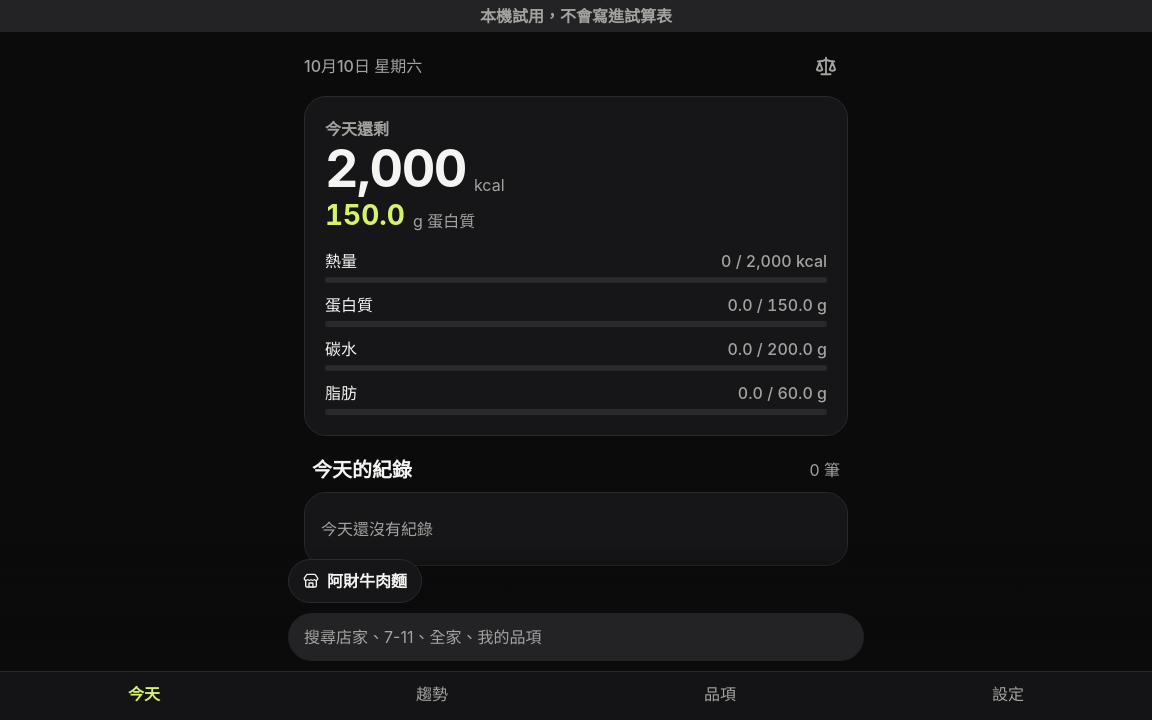
Scenario: 請 Kyujin 估算不打 API；離線時按鈕是需要網路
What coordinates should you click on to do the following:
click the button with aria-label "店家 阿財牛肉麵"
I would click on:
 (355, 581)
Its box is left=288, top=559, right=422, bottom=603.
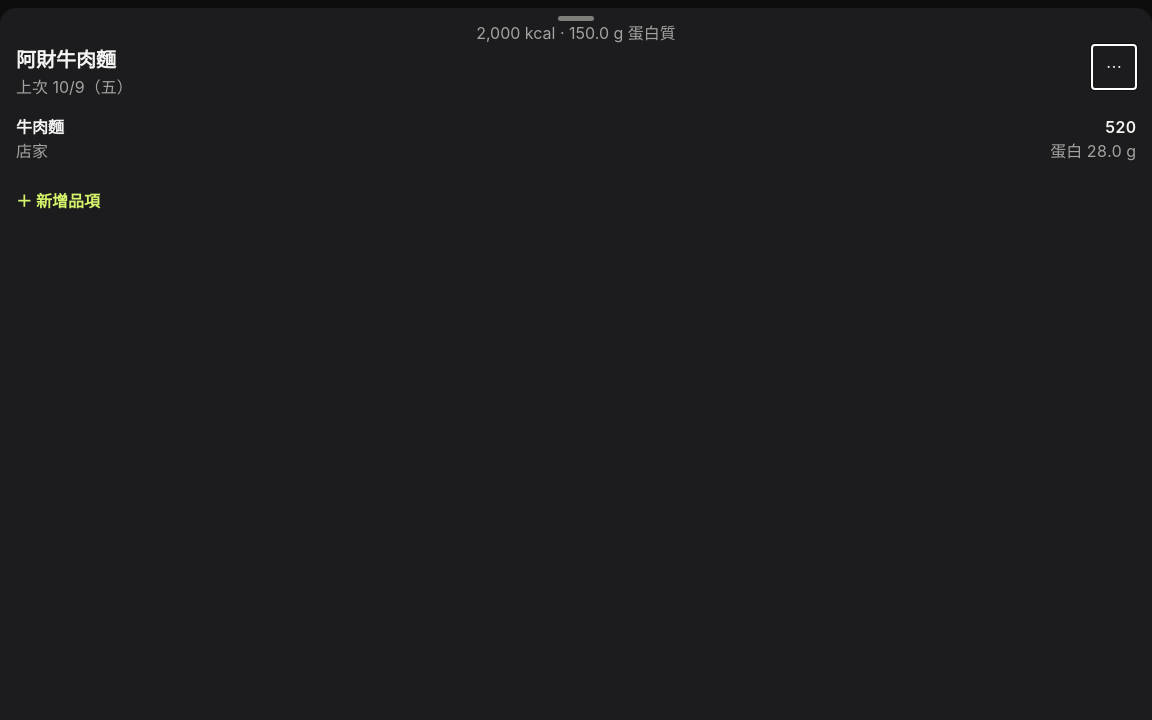
What coordinates should you click on to do the following:
click the button "＋ 新增品項"
I would click on:
 (58, 201)
Its box is left=0, top=171, right=1151, bottom=231.
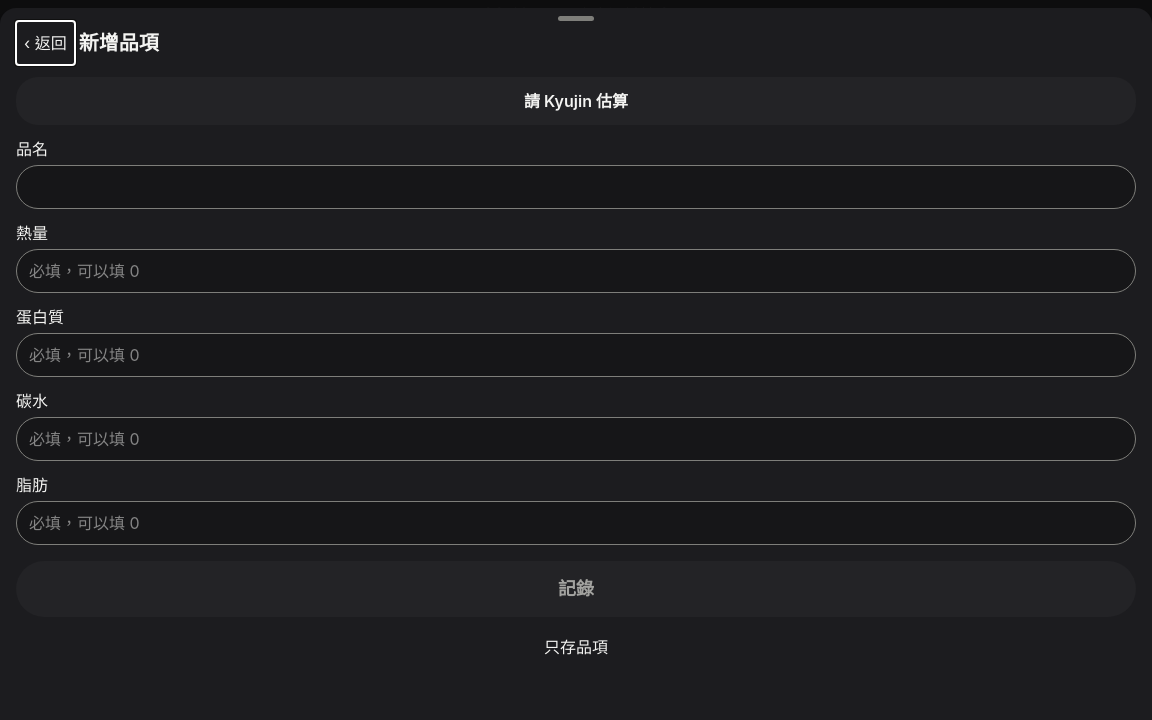
What coordinates should you click on to do the following:
click the button "請 Kyujin 估算"
I would click on:
 (576, 101)
Its box is left=16, top=77, right=1136, bottom=125.
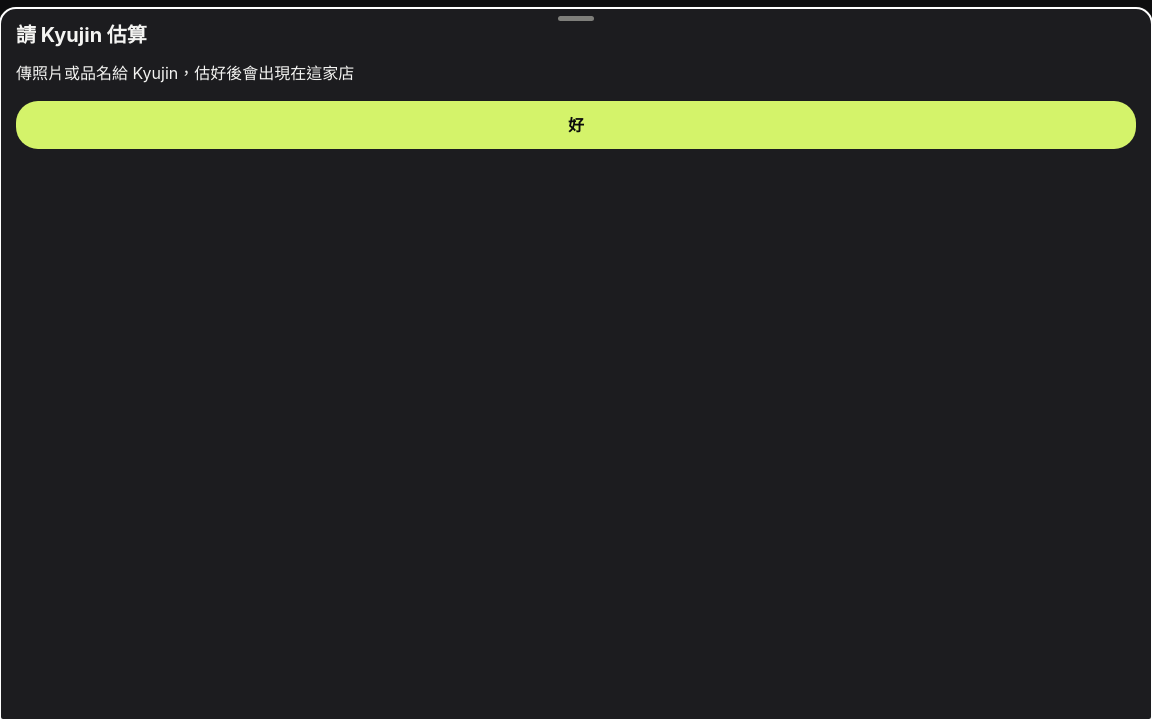
expect the text "傳照片或品名給 Kyujin，估好後會出現在這家店" is shown: met, box left=16, top=63, right=354, bottom=83
What coordinates should you click on to do the following:
click the button "好"
I would click on:
 (576, 125)
Its box is left=16, top=101, right=1136, bottom=149.
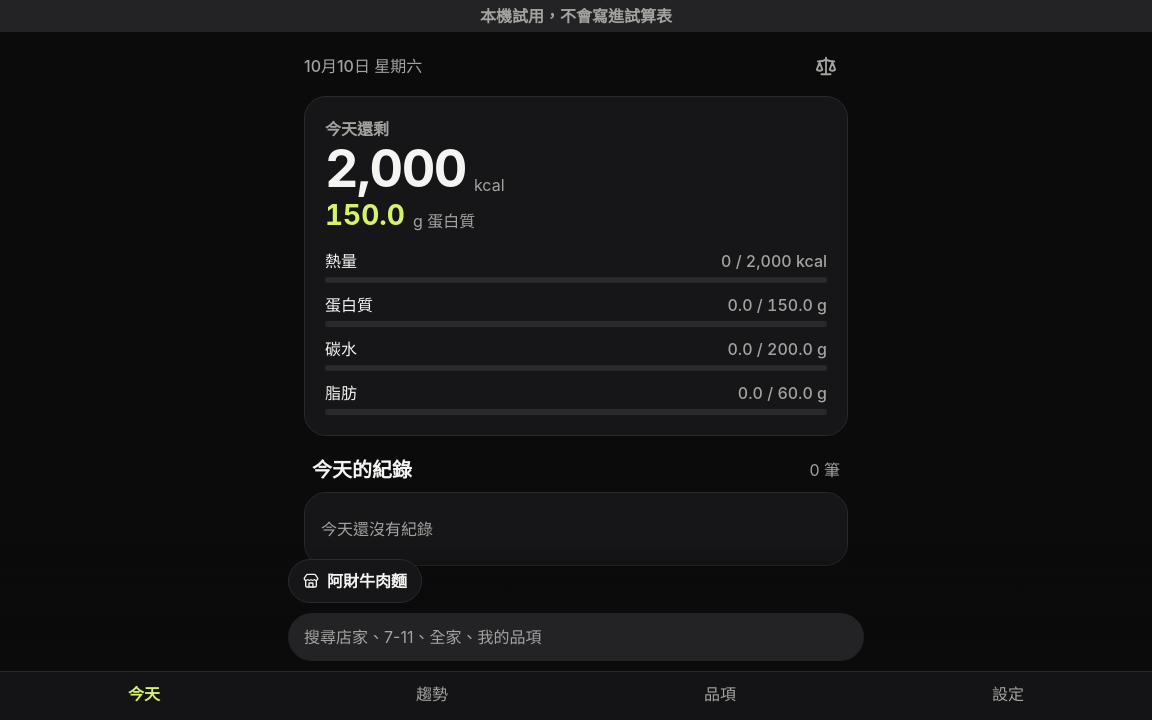
What coordinates should you click on to do the following:
click the button with aria-label "店家 阿財牛肉麵"
I would click on:
 (355, 581)
Its box is left=288, top=559, right=422, bottom=603.
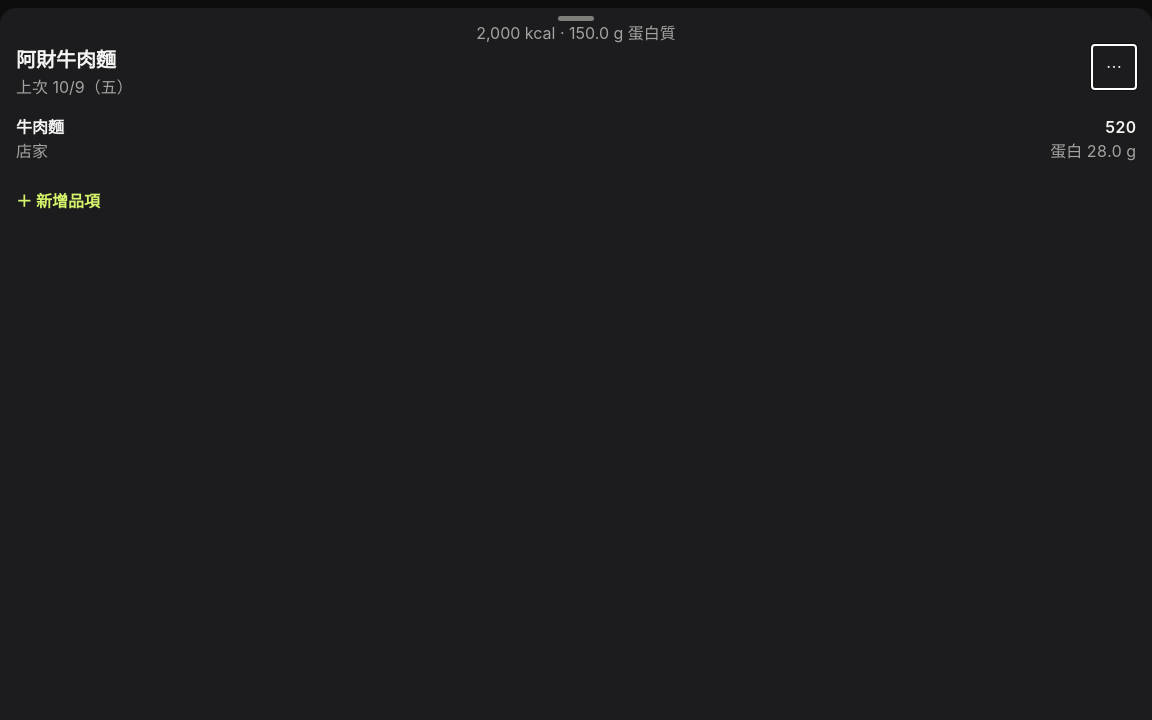
What coordinates should you click on to do the following:
click the button "＋ 新增品項"
I would click on:
 (58, 201)
Its box is left=0, top=171, right=1151, bottom=231.
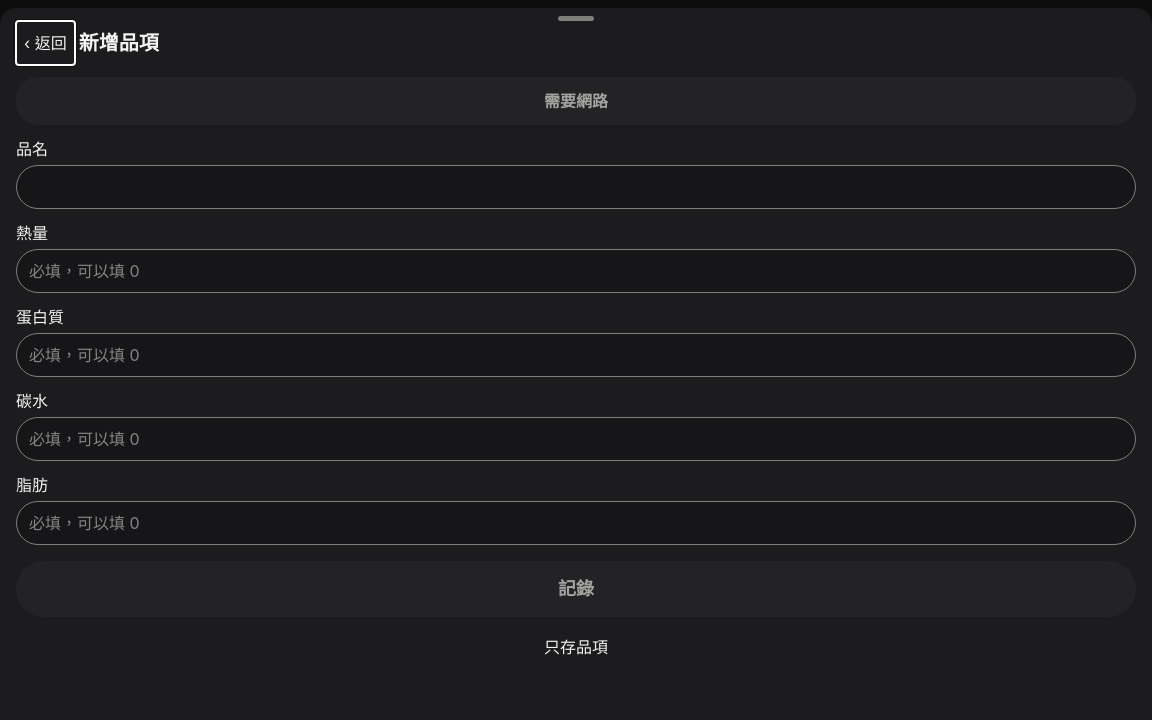
expect the button "需要網路" is disabled: met, box left=16, top=77, right=1136, bottom=125
